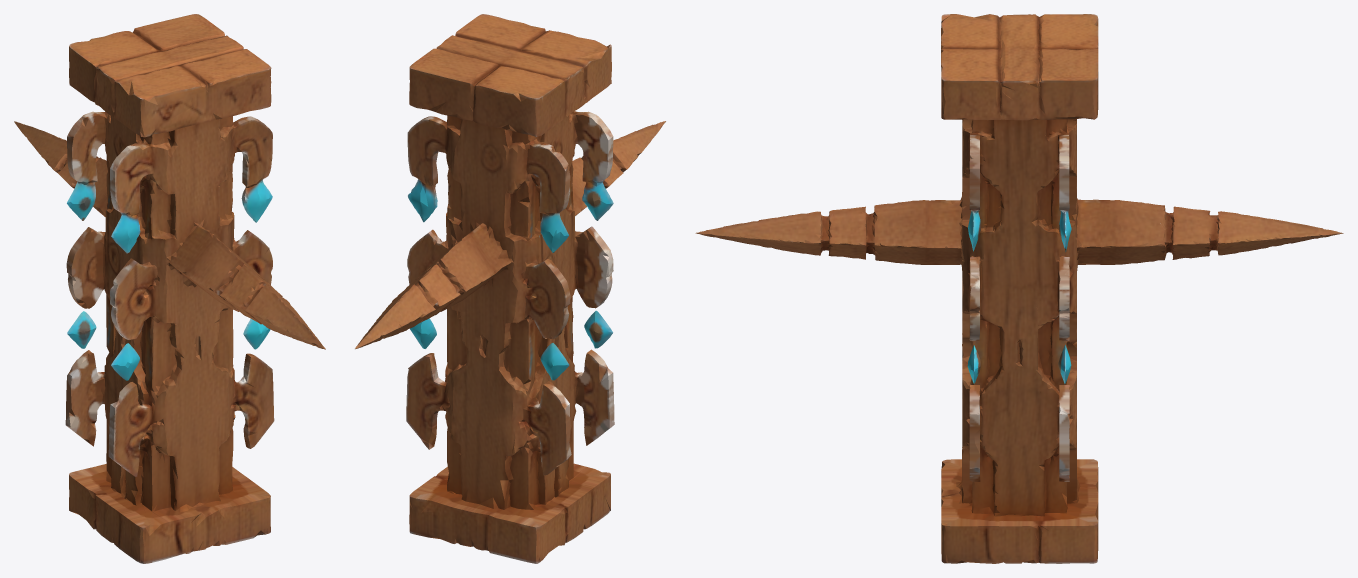
The model's file is electric_totem.glb.
The picture shows the model from 3 angles, left to right: view 1: azimuth 30°, elevation 25°; view 2: azimuth 150°, elevation 25°; view 3: azimuth 270°, elevation 25°; orthographic projection. The views are drawn at different scales.
Parts seen in each view (by area): view 1: electric_totem; view 2: electric_totem; view 3: electric_totem.
Part boxes in pixels (x1,y1,x2,y2): electric_totem: [14, 14, 325, 563]; electric_totem: [355, 14, 665, 563]; electric_totem: [695, 14, 1343, 563].
Bounding box in the file's own units: 0.5675 × 1.56 × 1.89.
1 material, 1 textured.
